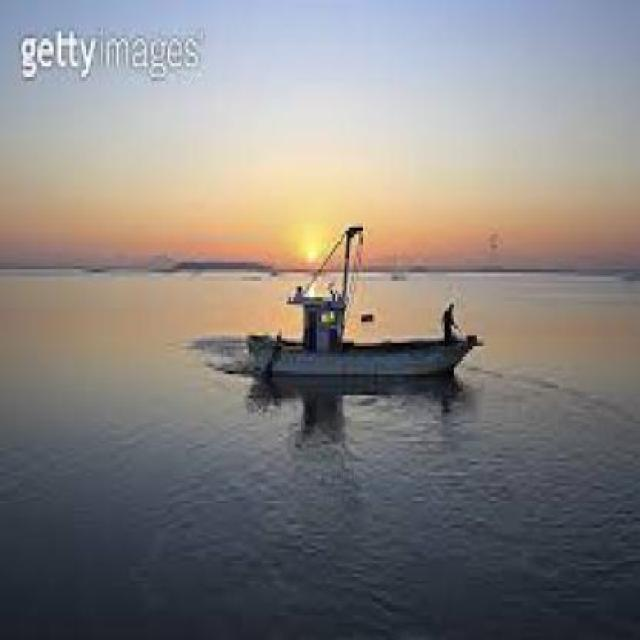fish-b: (185, 218, 494, 407)
